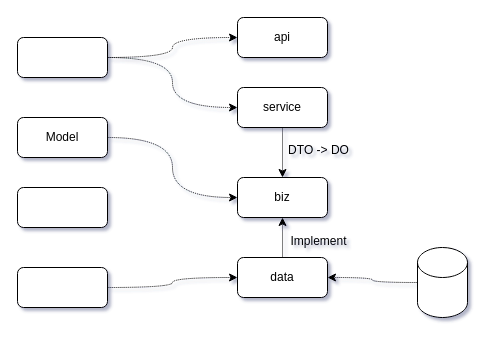
The diagram is 491 pixels wide and 341 high, and some of its shapes have lost their labels. The centre of each missing label's shape, as x and y in pixels:
Controller: point 62,57
DAO: point 62,287
View: point 62,207
